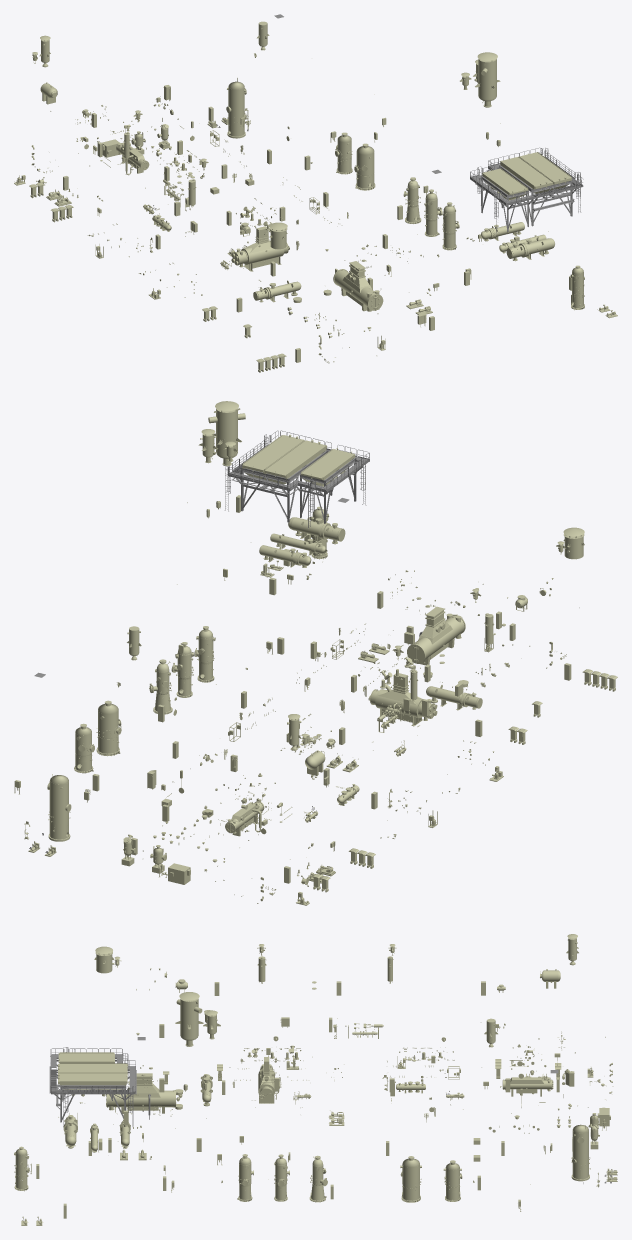
3 views of the same model, one above another, from view 1: azimuth 30°, elevation 25°; view 2: azimuth 150°, elevation 25°; view 3: azimuth 270°, elevation 25° (orthographic). The views are drawn at different scales.
Bounding box in the file's own units: 59.16 × 36.62 × 94.4.
